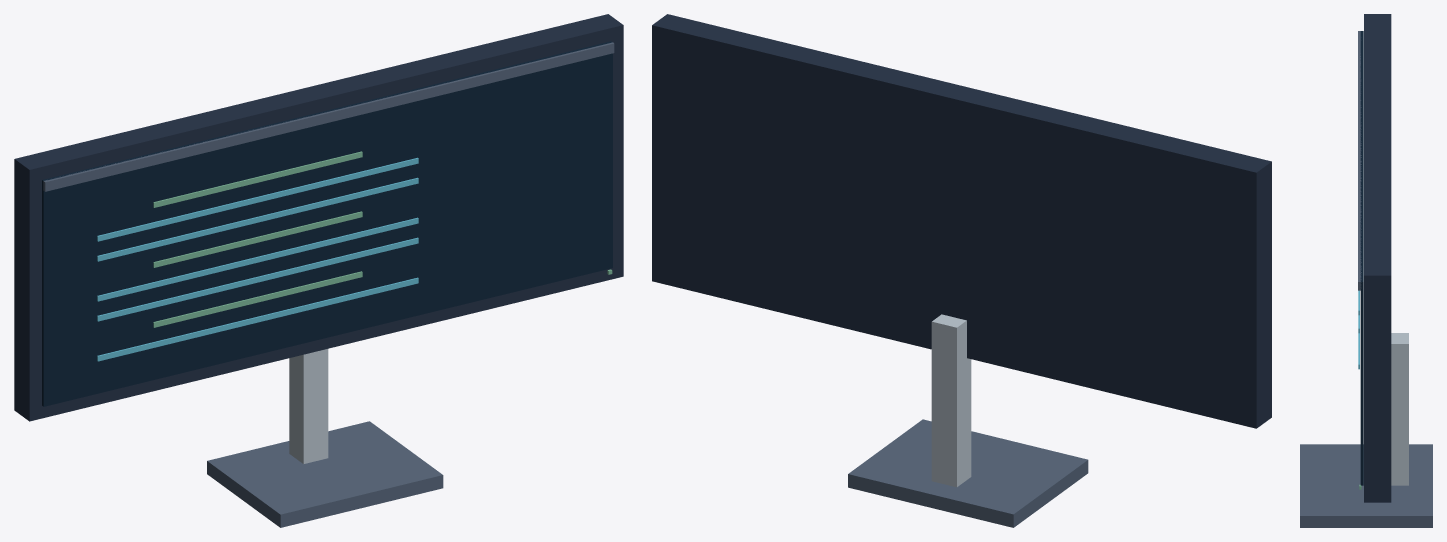
Rendered from officeUltrawide.glb.
The picture shows the model from 3 angles, left to right: view 1: azimuth 30°, elevation 25°; view 2: azimuth 150°, elevation 25°; view 3: azimuth 270°, elevation 25°; orthographic projection. The views are drawn at different scales.
Bounding box in the file's own units: 0.84 × 0.52 × 0.18.
